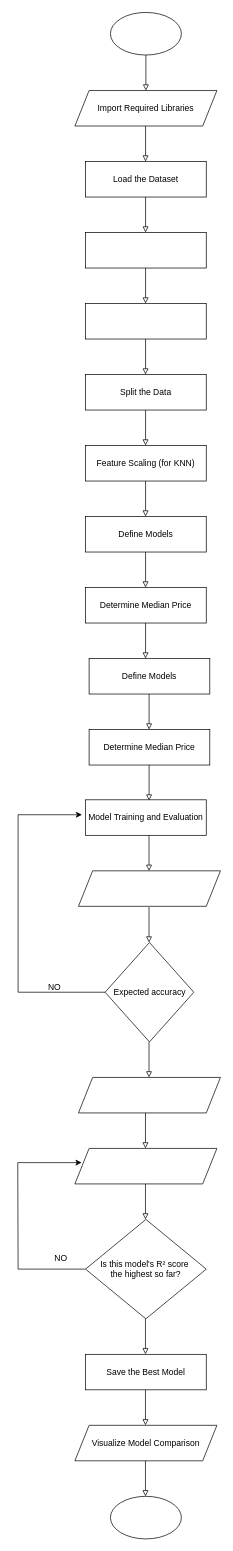
Some shapes in this 233 by 1551 pixel diagram are drawn without their labels. The shapes that lost their labels are listed below. From the top down, each one's centre as x and y in pixels, then its label:
point (145, 33): Start
point (145, 250): Handle Missing Values
point (145, 321): Feature Selection
point (149, 888): Predict target values.
point (149, 1095): Print Metrics
point (145, 1166): Take a model
point (145, 1517): End
